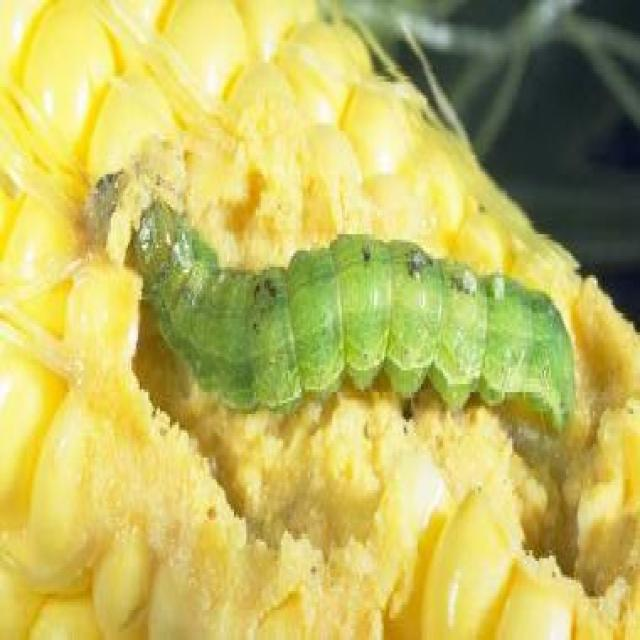Corn-earworm: (139, 188, 580, 452)
